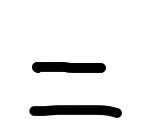eqv: (26, 59, 125, 119)
